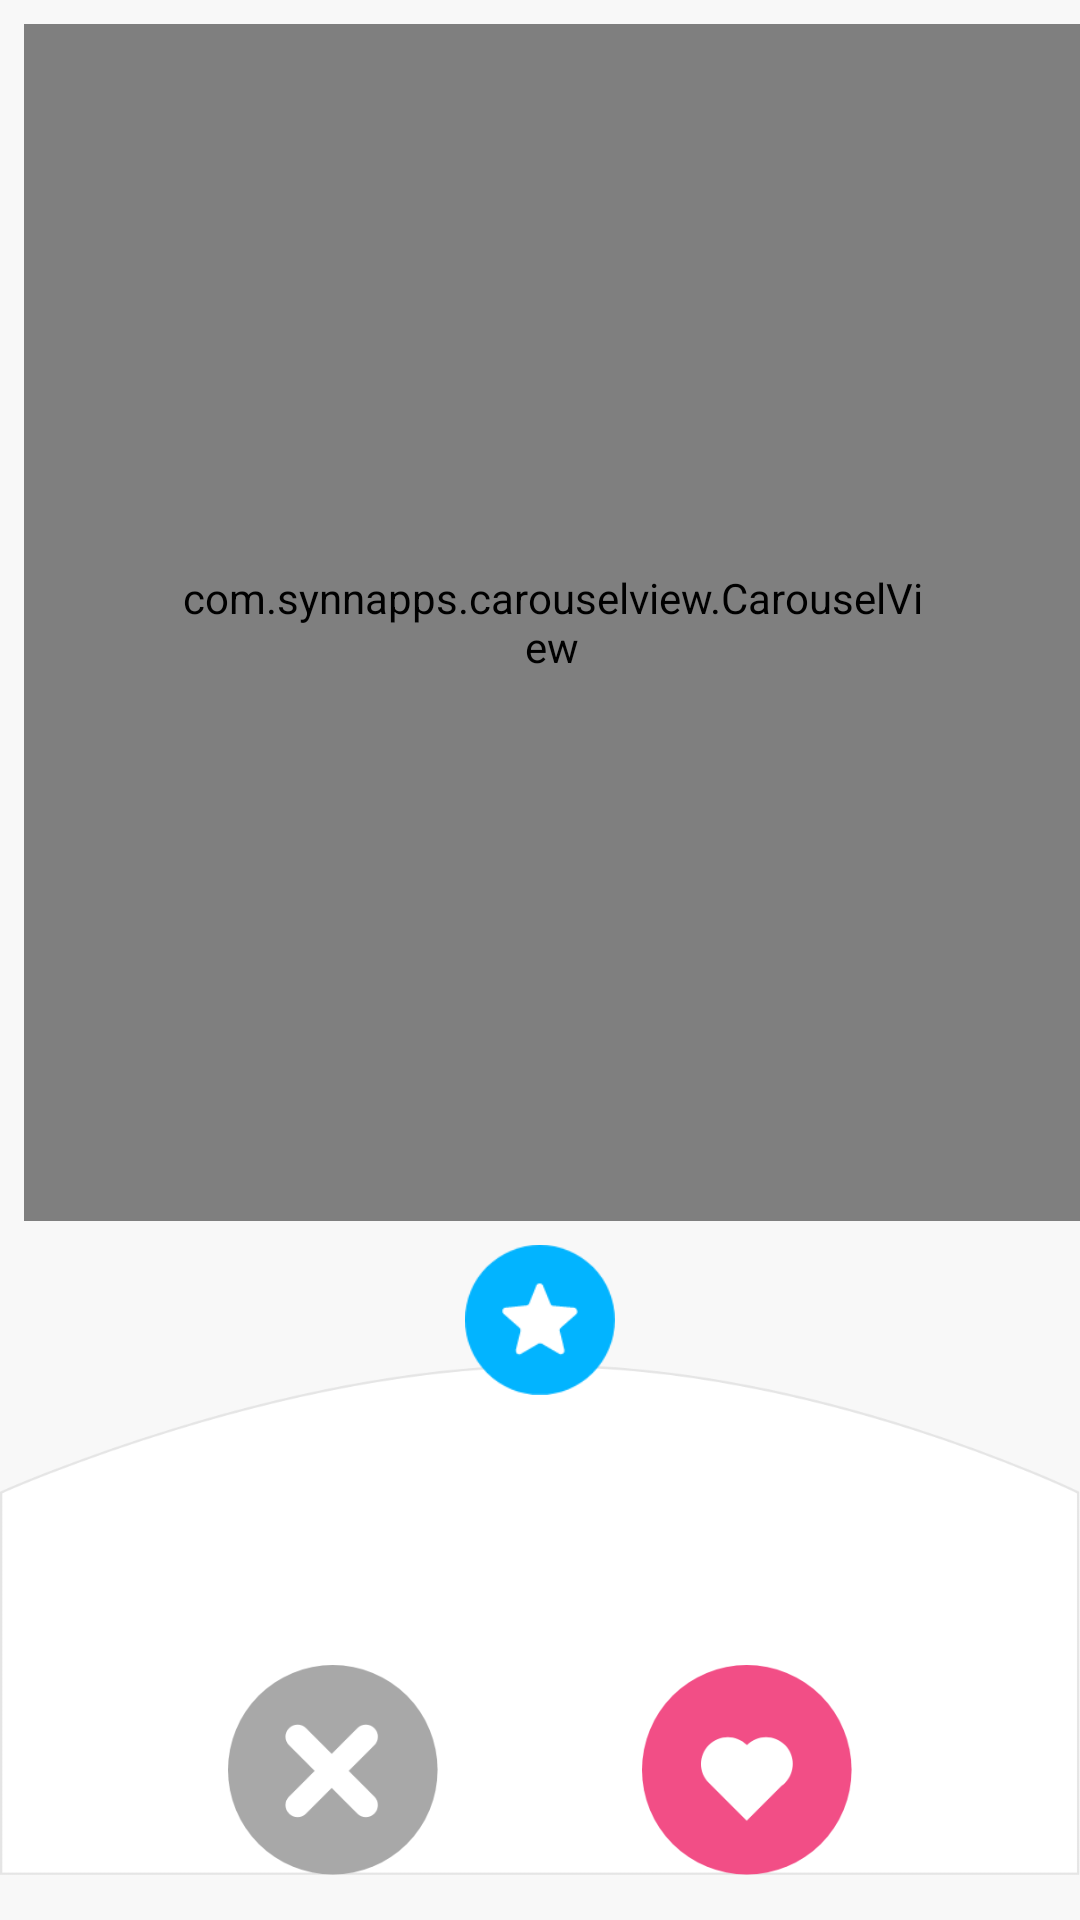

Screen size 1080×1920. Icon name, then its center in pixels as (x,y):
dislike: (333,1770)
favorite button: (540,1320)
like button: (747,1770)
